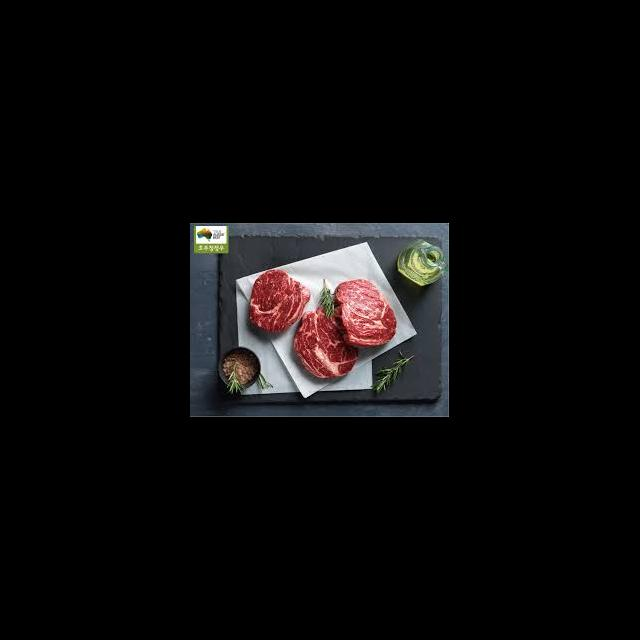beef: (249, 266, 311, 331), (336, 280, 397, 346), (297, 311, 356, 378)
